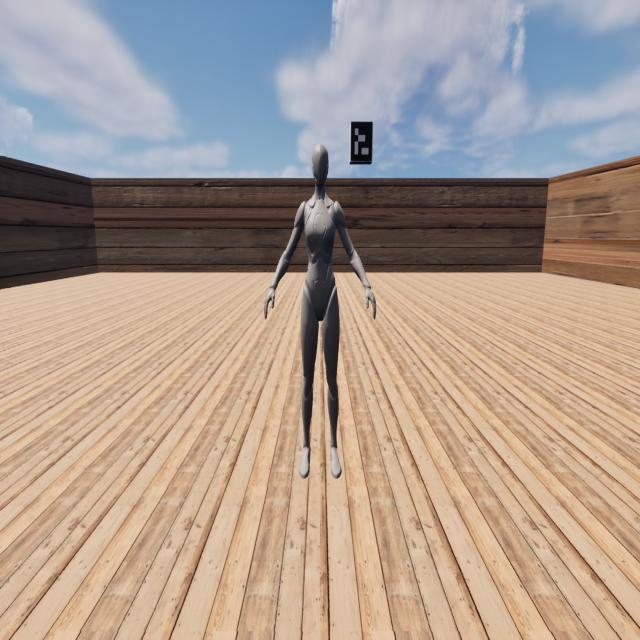aruco: (351, 122, 372, 163)
hip: (303, 286, 338, 301)
